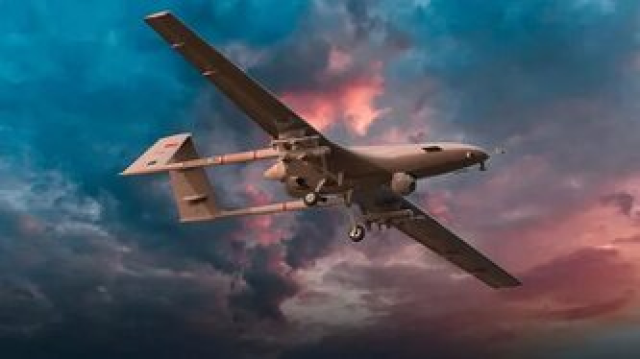military drone: (116, 10, 522, 288)
